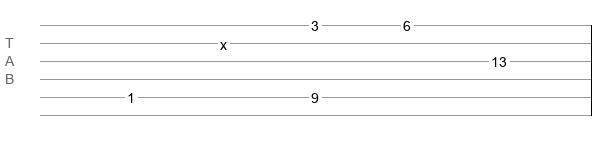1: (127, 90, 135, 100)
13: (491, 54, 507, 64)
3: (311, 18, 319, 28)
6: (403, 18, 411, 28)
9: (311, 90, 319, 100)
x: (220, 37, 227, 45)
